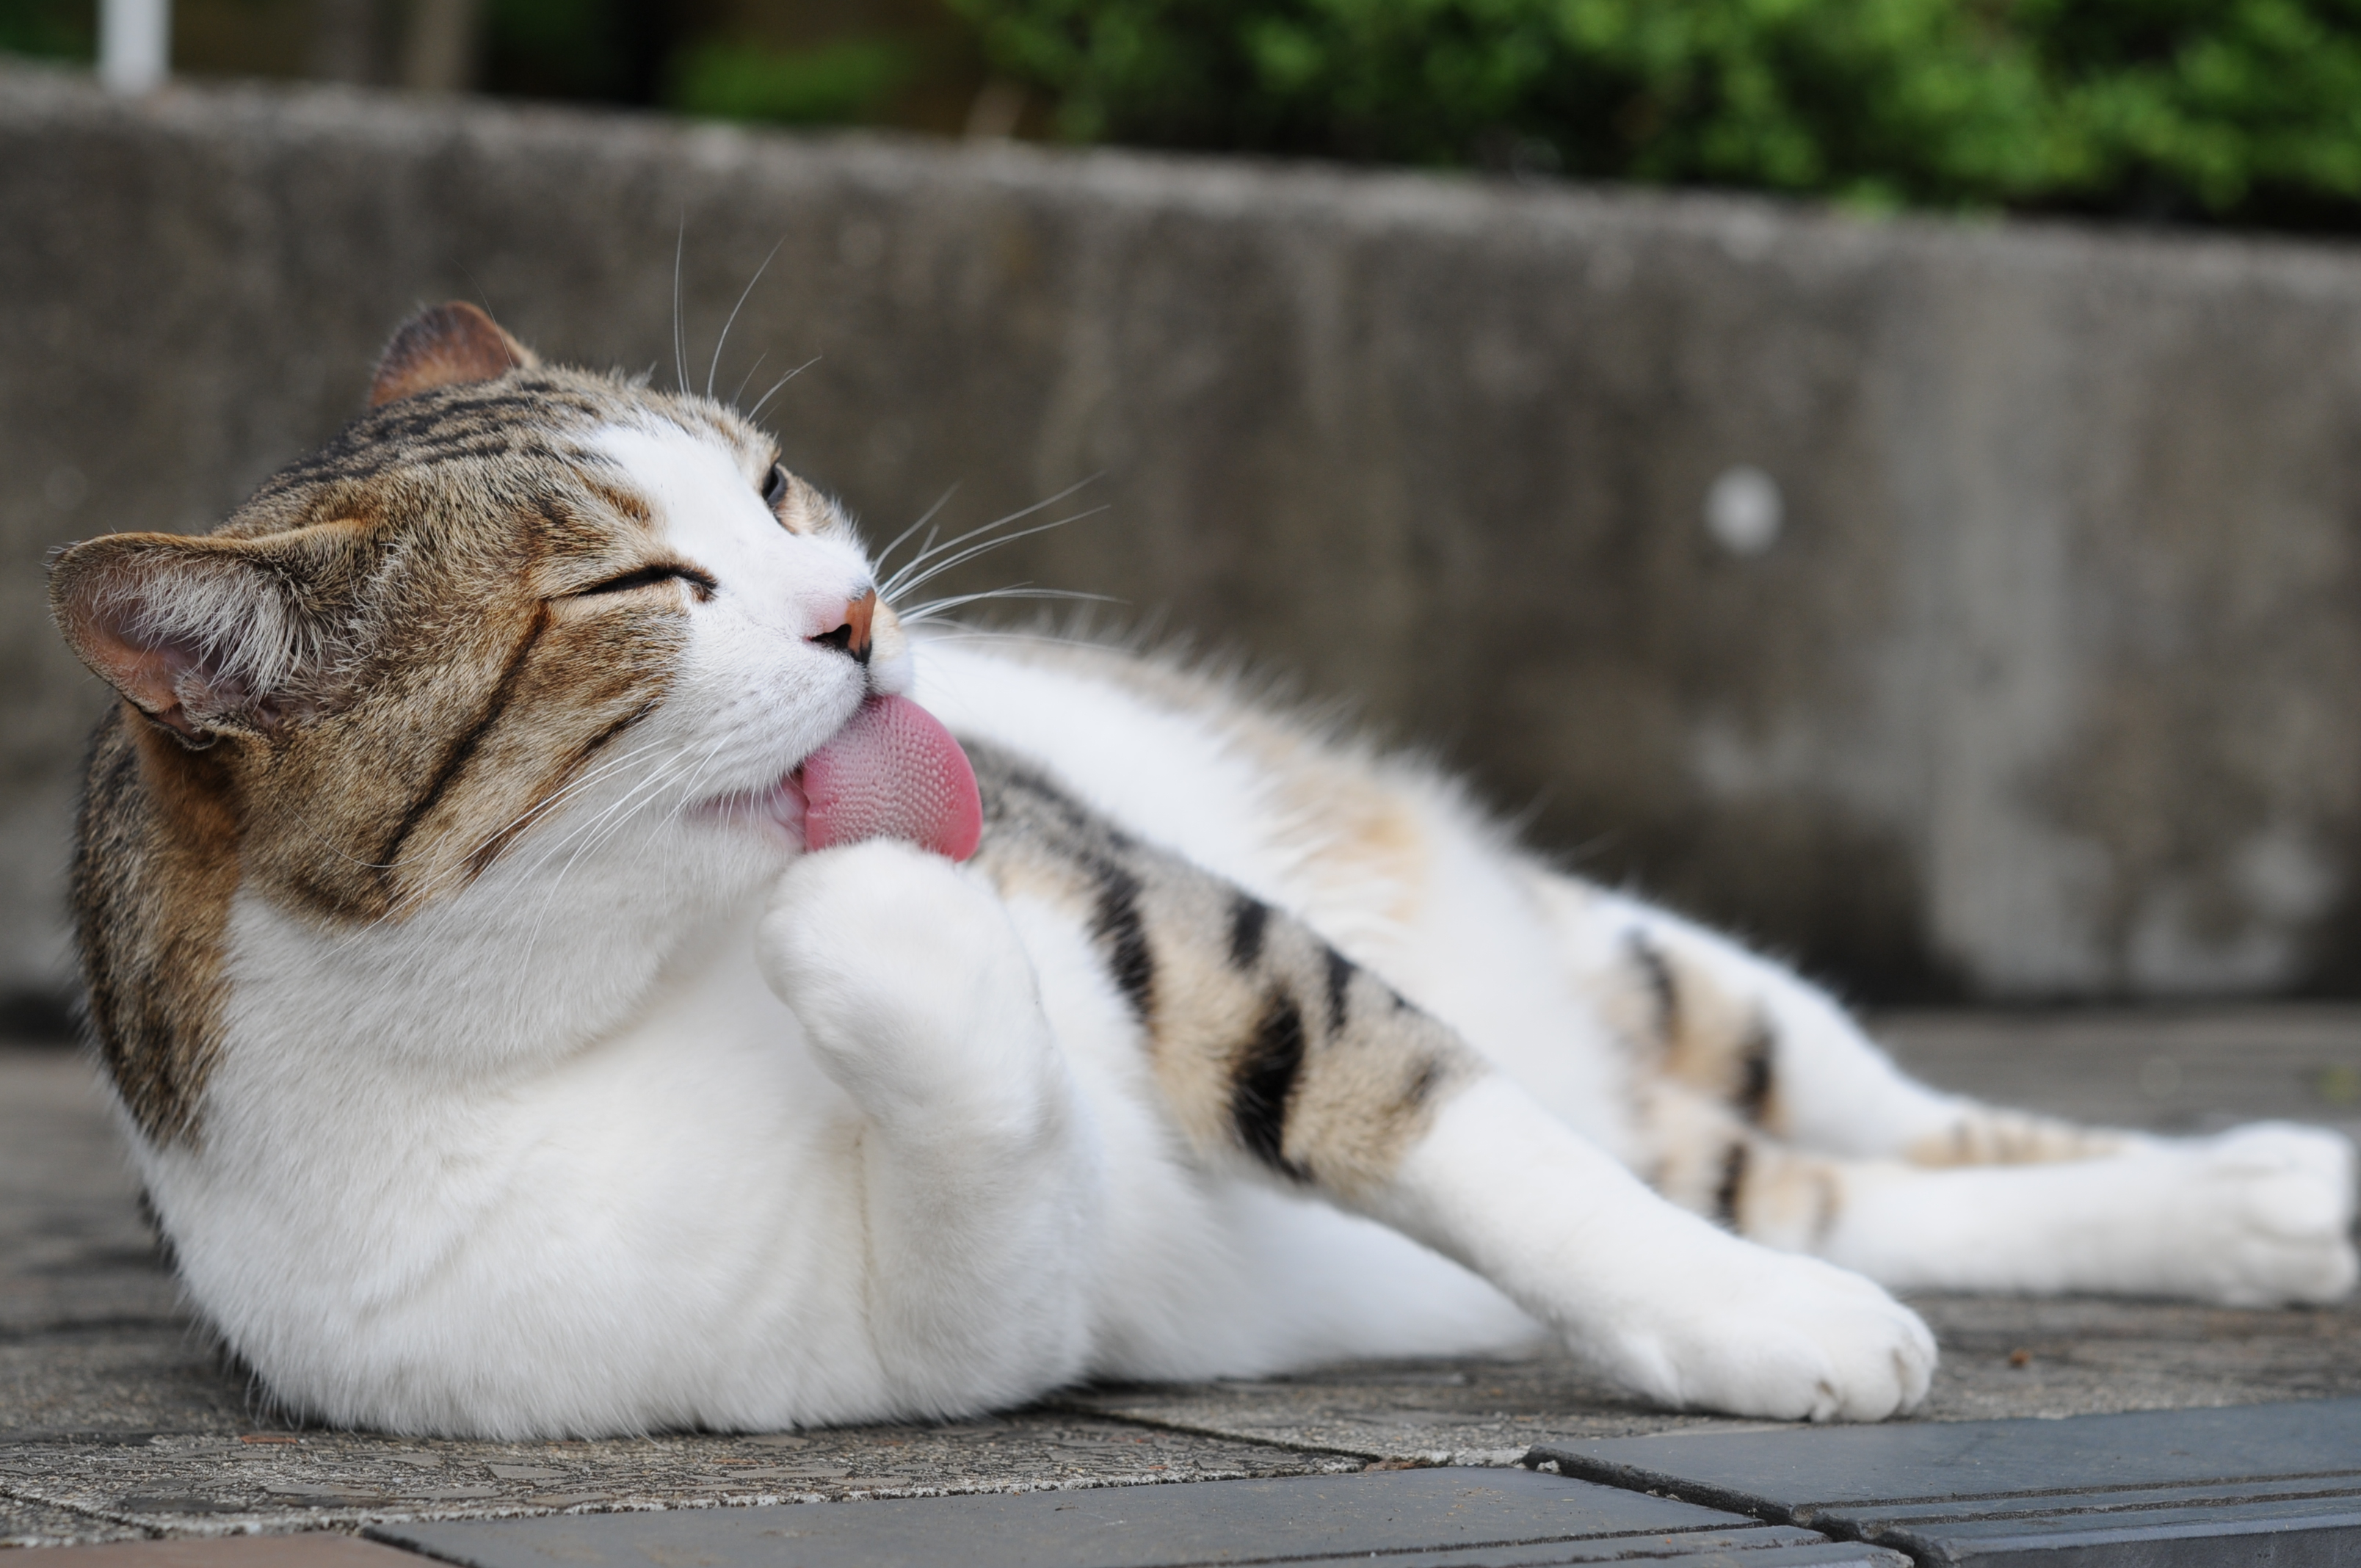cat: (47, 292, 2357, 1438)
cat-face: (54, 297, 1120, 984)
